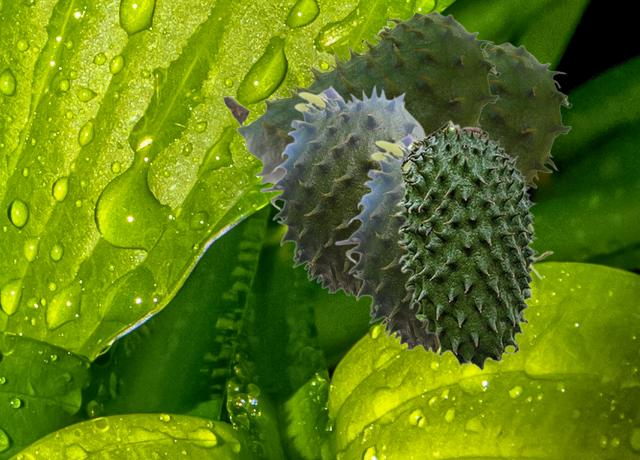guyabano: (334, 133, 553, 354), (222, 11, 499, 184), (395, 119, 538, 370), (259, 83, 425, 296), (479, 42, 571, 188)
